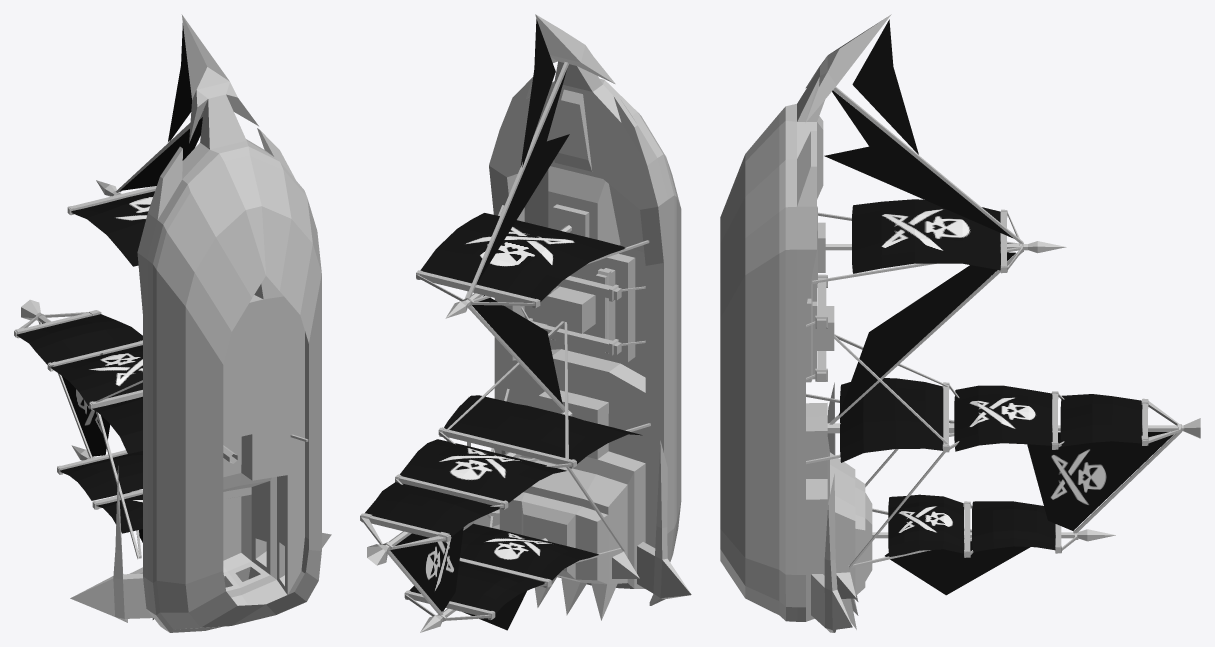
The model's file is main_3_2.fbx.
3 renders of one model, left to right at view 1: azimuth 30°, elevation 25°; view 2: azimuth 150°, elevation 25°; view 3: azimuth 270°, elevation 25°, orthographic. The views are drawn at different scales.
Visible parts, largest first — view 1: Cube.595; view 2: Cube.595; view 3: Cube.595.
Boxes of the visible parts, bbox=[...] form: Cube.595: bbox=[14, 14, 331, 632]; Cube.595: bbox=[360, 14, 691, 632]; Cube.595: bbox=[720, 14, 1200, 632].
Bounding box in the file's own units: 690 × 1471 × 1076.
